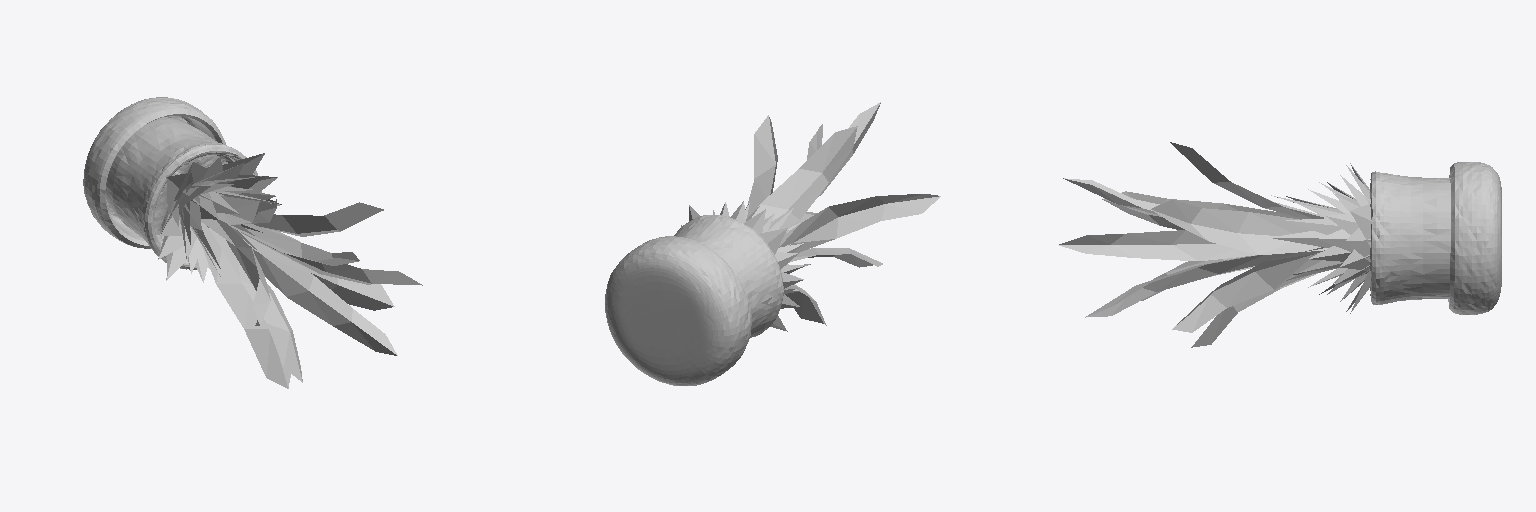
The model's file is plant.obj.
3 renders of one model, left to right at view 1: azimuth 30°, elevation 25°; view 2: azimuth 150°, elevation 25°; view 3: azimuth 270°, elevation 25°, orthographic.
Parts seen in each view (by area): view 1: Low-Poly_Plant_.001_Cube.000, Low-Poly_Plant__Cube.055; view 2: Low-Poly_Plant__Cube.055, Low-Poly_Plant_.001_Cube.000; view 3: Low-Poly_Plant_.001_Cube.000, Low-Poly_Plant__Cube.055.
Part boxes in pixels (left/top/right/bottom): Low-Poly_Plant_.001_Cube.000: left=158, top=153, right=422, bottom=388; Low-Poly_Plant__Cube.055: left=83, top=97, right=261, bottom=269; Low-Poly_Plant__Cube.055: left=605, top=215, right=783, bottom=385; Low-Poly_Plant_.001_Cube.000: left=681, top=102, right=940, bottom=331; Low-Poly_Plant_.001_Cube.000: left=1059, top=142, right=1371, bottom=347; Low-Poly_Plant__Cube.055: left=1370, top=162, right=1501, bottom=314.
Size of the model in its own units: 0.5929 by 0.6533 by 1.35.